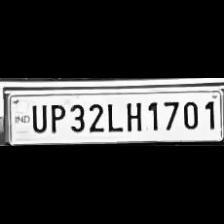0: (178, 97, 200, 130)
1: (201, 97, 219, 130), (144, 98, 160, 132)
2: (85, 99, 105, 133)
3: (66, 99, 86, 133)
7: (158, 96, 178, 132)
H: (122, 98, 144, 132)
L: (103, 98, 121, 132)
P: (46, 100, 66, 134)
U: (28, 100, 46, 132)
